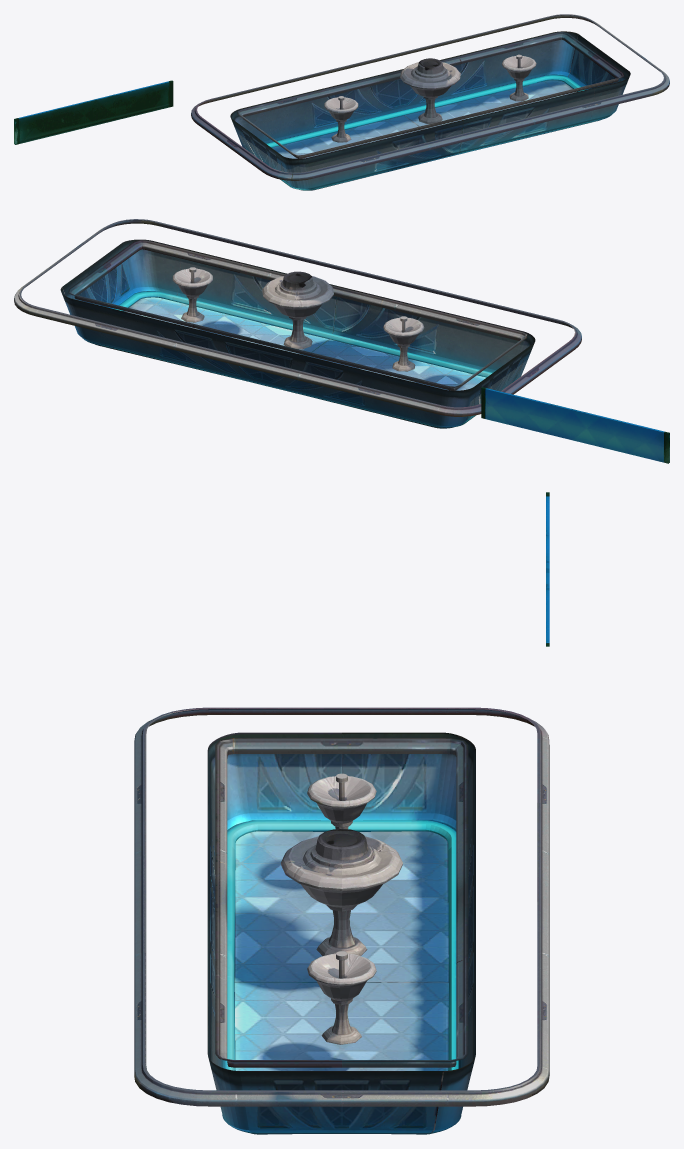
The model's file is pref_sm_garden_props_vray_004a_lv2.fbx.
3 views of the same model, one above another, from view 1: azimuth 30°, elevation 25°; view 2: azimuth 150°, elevation 25°; view 3: azimuth 270°, elevation 25° (orthographic). The views are drawn at different scales.
Parts seen in each view (by area): view 1: pref_sm_garden_props_vray_004a_lv2; view 2: pref_sm_garden_props_vray_004a_lv2; view 3: pref_sm_garden_props_vray_004a_lv2.
Boxes of the visible parts, box(x1,y1,x2,y2) form: pref_sm_garden_props_vray_004a_lv2: box(14, 14, 669, 190); pref_sm_garden_props_vray_004a_lv2: box(14, 219, 669, 463); pref_sm_garden_props_vray_004a_lv2: box(134, 492, 549, 1134).
Size of the model in its own units: 27.97 by 3.45 by 8.91.
